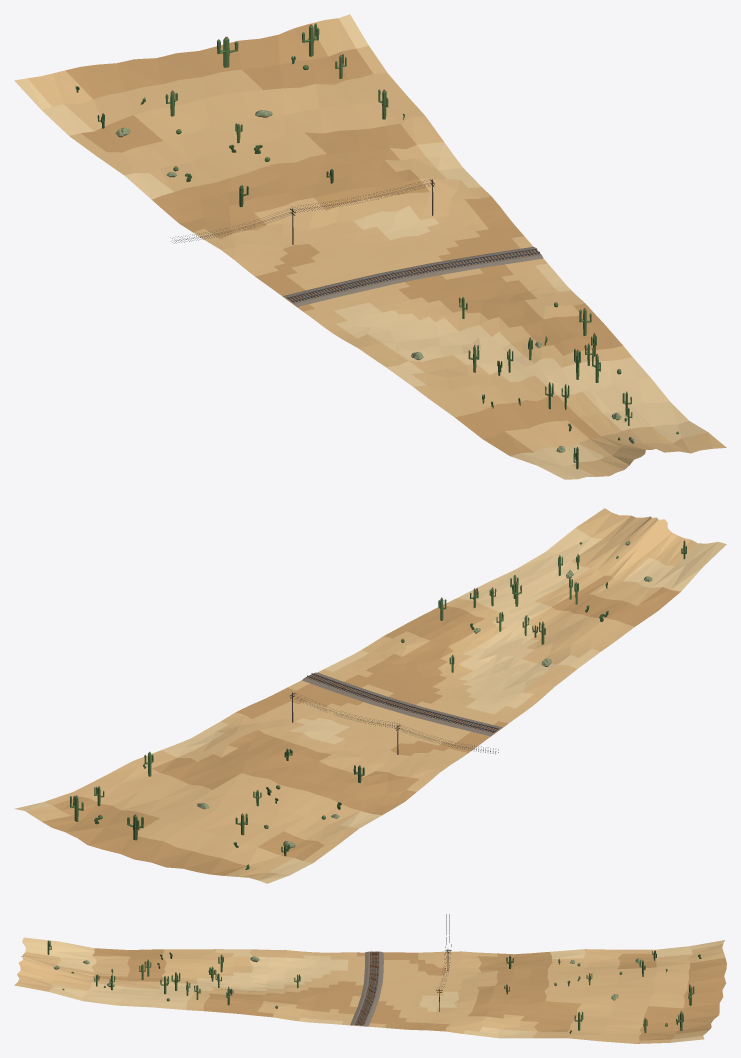
File: SM_FG_Chunk_CurveR_A.fbx
The picture shows the model from 3 angles, top to bottom: view 1: azimuth 30°, elevation 25°; view 2: azimuth 150°, elevation 25°; view 3: azimuth 270°, elevation 25°; orthographic projection. The views are drawn at different scales.
Parts seen in each view (by area): view 1: FG_Chunk_CurveR_A_Ground, FG_Chunk_CurveR_A_SceneryNear, FG_Chunk_CurveR_A_Track; view 2: FG_Chunk_CurveR_A_Ground, FG_Chunk_CurveR_A_SceneryNear, FG_Chunk_CurveR_A_Track; view 3: FG_Chunk_CurveR_A_Ground, FG_Chunk_CurveR_A_SceneryNear, FG_Chunk_CurveR_A_Track.
Boxes of the visible parts, x1=… form: FG_Chunk_CurveR_A_Ground: x1=14, y1=14, x2=726, y2=479; FG_Chunk_CurveR_A_SceneryNear: x1=75, y1=23, x2=679, y2=469; FG_Chunk_CurveR_A_Track: x1=283, y1=246, x2=543, y2=306; FG_Chunk_CurveR_A_Ground: x1=14, y1=508, x2=726, y2=883; FG_Chunk_CurveR_A_SceneryNear: x1=69, y1=540, x2=686, y2=869; FG_Chunk_CurveR_A_Track: x1=302, y1=672, x2=502, y2=736; FG_Chunk_CurveR_A_Ground: x1=14, y1=937, x2=726, y2=1043; FG_Chunk_CurveR_A_SceneryNear: x1=47, y1=914, x2=701, y2=1033; FG_Chunk_CurveR_A_Track: x1=350, y1=951, x2=383, y2=1026.
Size of the model in its own units: 7956 by 20338 by 815.
